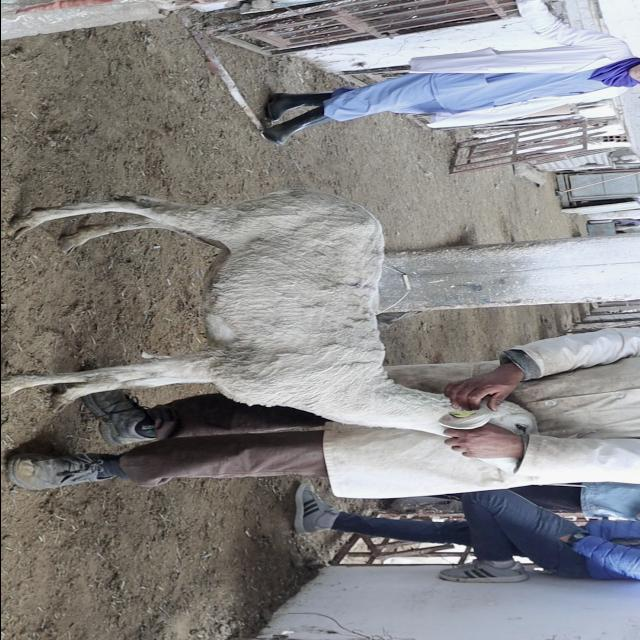Score_1: (1, 188, 534, 436)
